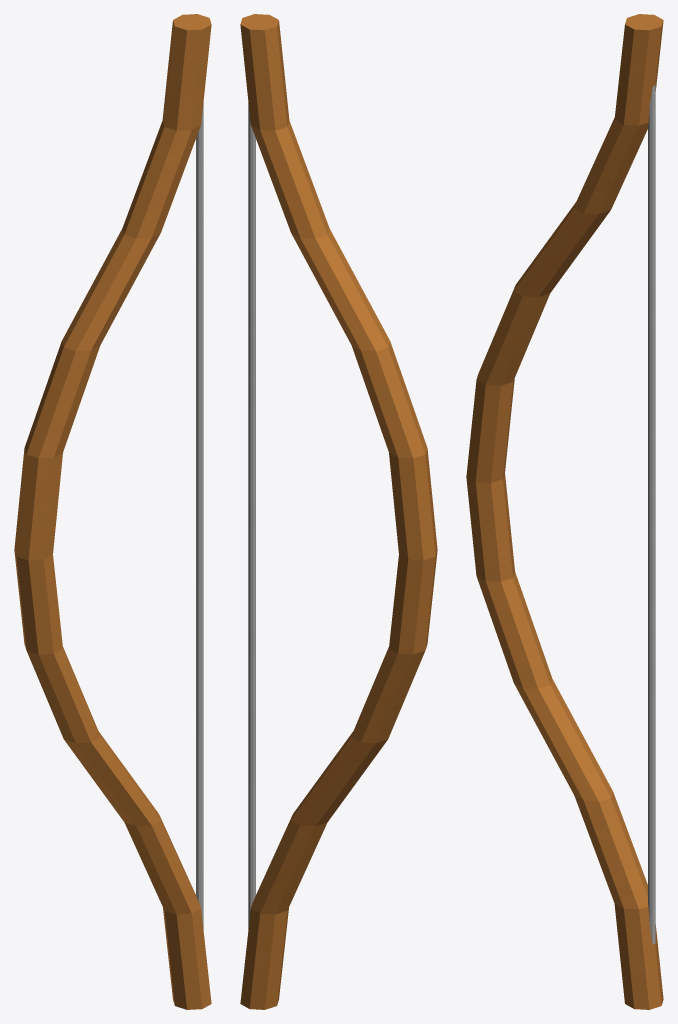
File: Bow.fbx
3 renders of one model, left to right at view 1: azimuth 30°, elevation 25°; view 2: azimuth 150°, elevation 25°; view 3: azimuth 330°, elevation 25°, orthographic.
Visible parts, largest first — view 1: Bow; view 2: Bow; view 3: Bow.
Boxes of the visible parts, x1,y1,x2,y2 form: Bow: (14,14,211,1009); Bow: (240,14,437,1009); Bow: (466,14,663,1009).
Bounding box in the file's own units: 18.57 × 89.92 × 3.33.
